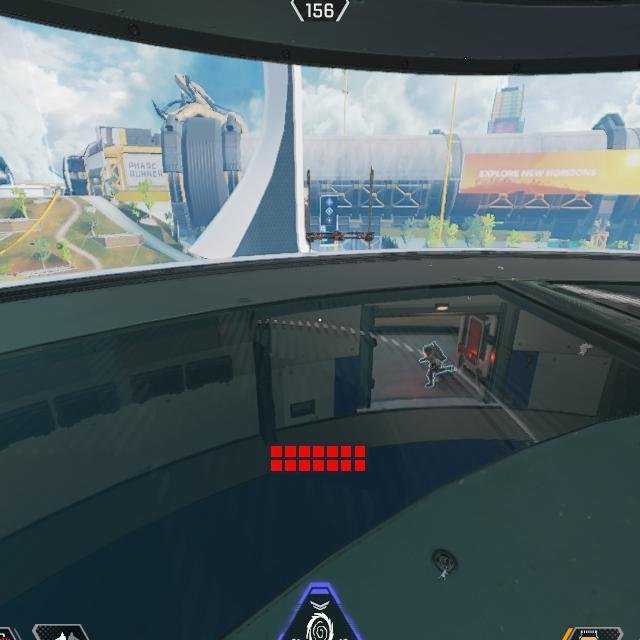avatar: (418, 340, 450, 390)
